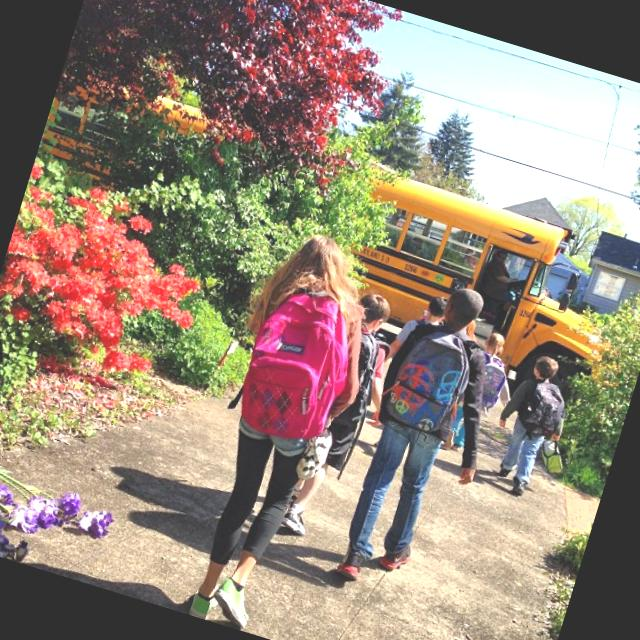Vehicle: (330, 165, 636, 397)
